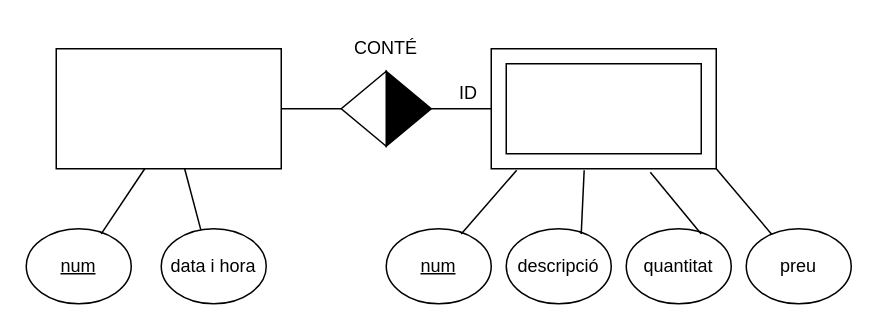
Image size: 878x330. Some labels were removed from this diagram. Each missing label, with the centre of its shape:
"CAPÇALERA REBUT" belongs at point (168, 108).
"LÍNIA REBUT" belongs at point (603, 108).
